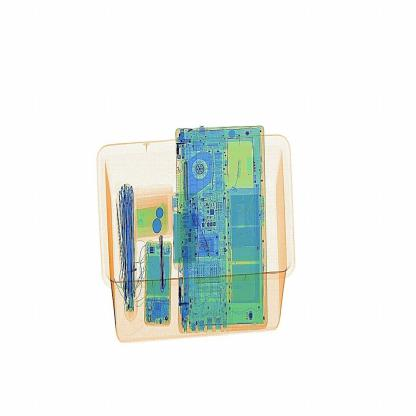knife: (156, 233, 168, 293)
